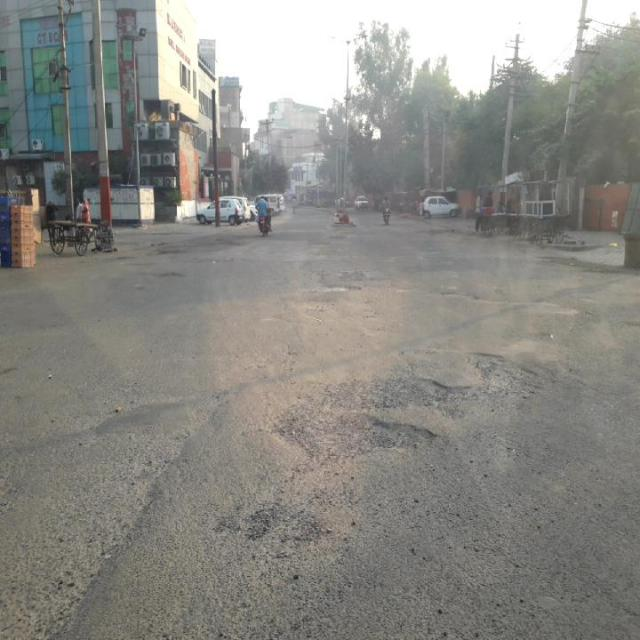Surface Erosion: (80, 247, 640, 637)
